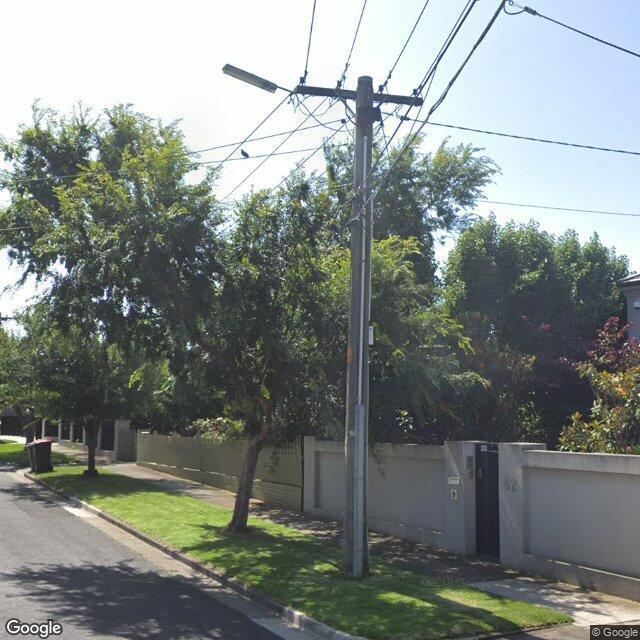crossarm: (289, 76, 424, 122)
streetlight: (222, 64, 294, 95)
timber-pole: (340, 77, 374, 582)
